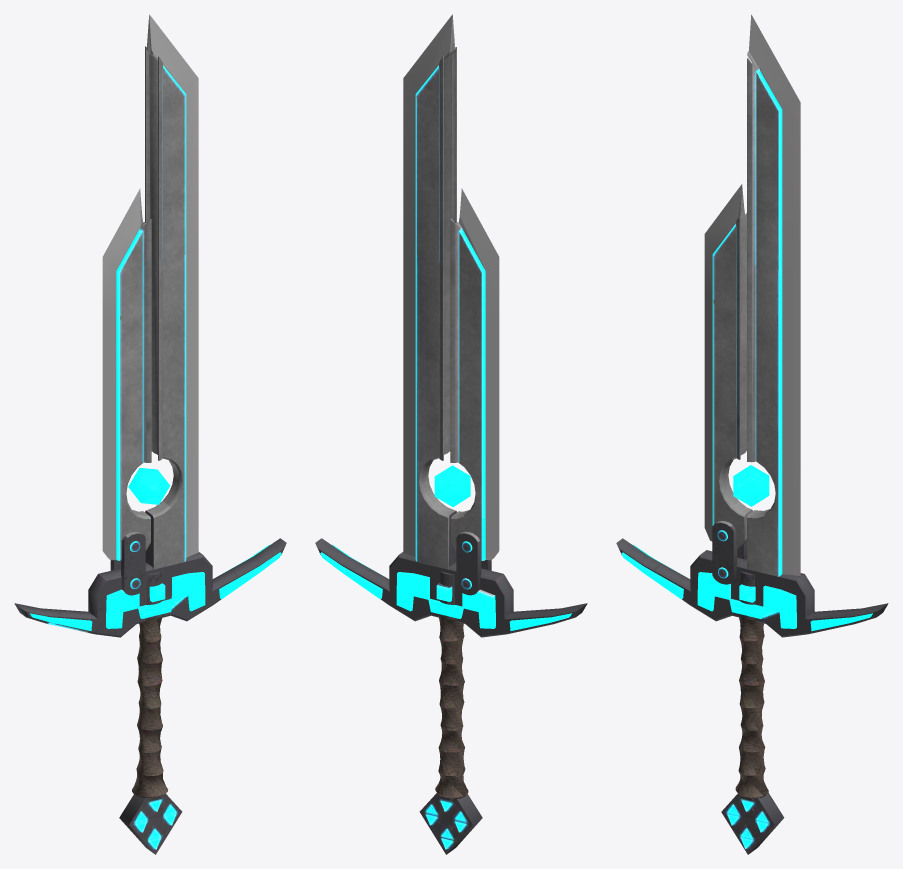
Rendered from Lightsaber.glb.
3 views of the same model, side by side, from view 1: azimuth 30°, elevation 25°; view 2: azimuth 150°, elevation 25°; view 3: azimuth 330°, elevation 25° (orthographic).
Visible parts, largest first — view 1: defaultMaterial; view 2: defaultMaterial; view 3: defaultMaterial.
Boxes of the visible parts, x1,y1,x2,y2 form: defaultMaterial: [14, 14, 286, 854]; defaultMaterial: [315, 14, 587, 854]; defaultMaterial: [616, 14, 888, 854].
Size of the model in its own units: 0.665 by 2 by 0.0916.
Materials: 1 (1 with a texture image).
